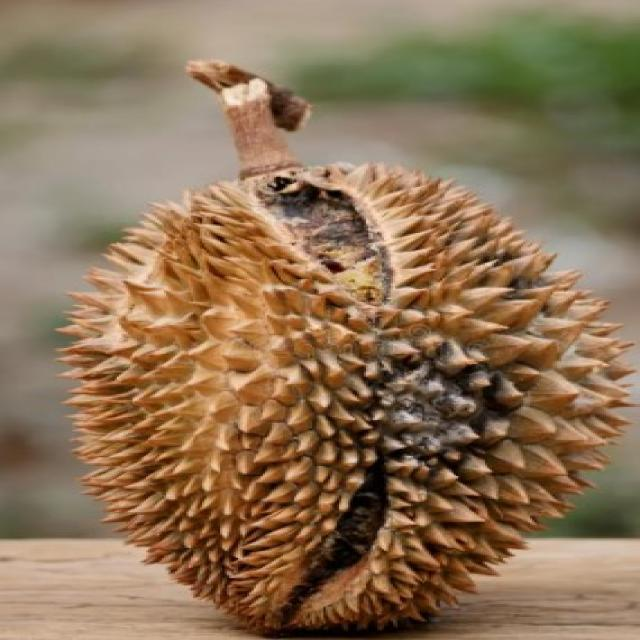defective: (48, 153, 640, 639)
